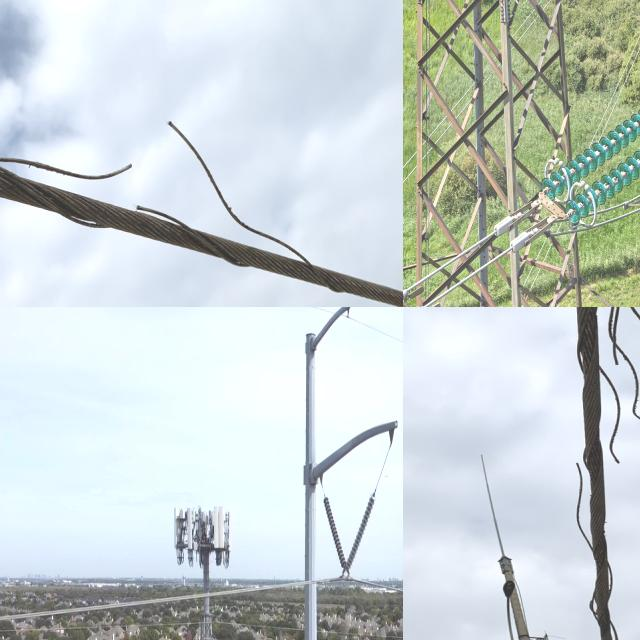杆塔: (403, 0, 596, 307)
正常绝缘子: (530, 95, 640, 229), (318, 487, 380, 581)
电缆破损: (0, 103, 361, 299), (504, 307, 640, 640)
